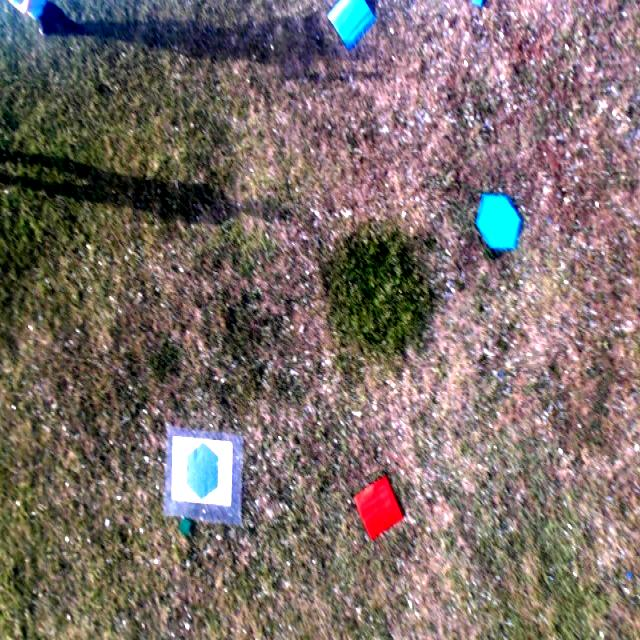blue_hexagon: (472, 191, 523, 252), (186, 441, 220, 502)
blue_square: (326, 0, 376, 51)
red_square: (352, 475, 405, 540)
